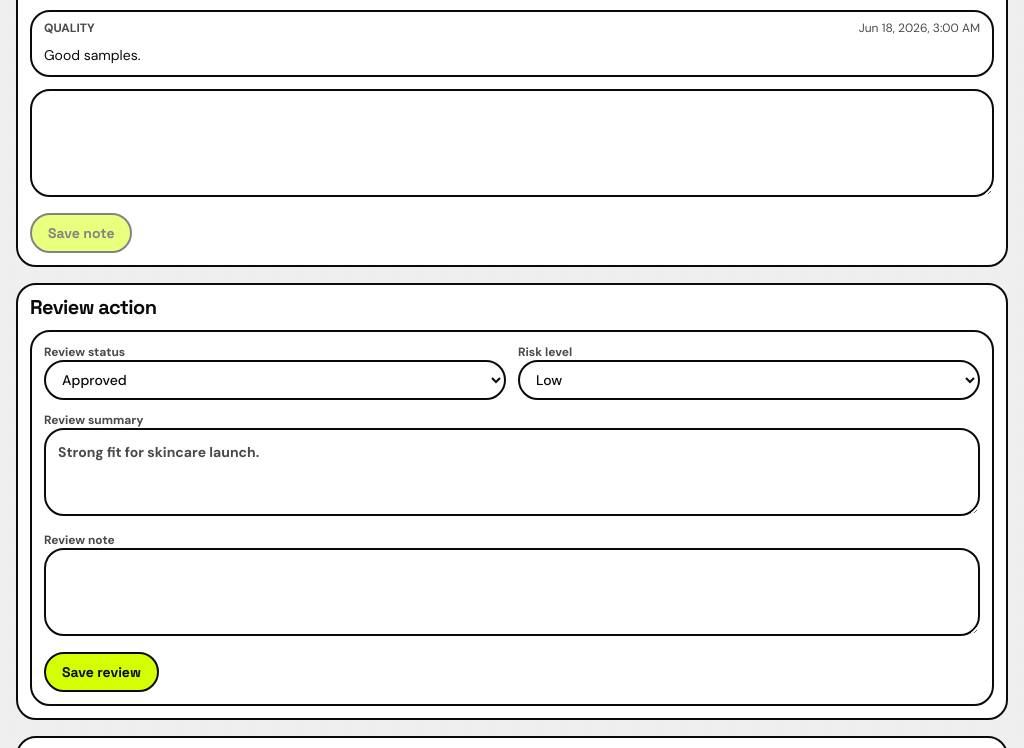
Test: operator creator detail › requires a note before saving a flagged review
(page scrolled)
Select "Flagged" in the dropdown labelled "Review status" at (275, 380), box top-left (44, 360), bottom-right (506, 400)
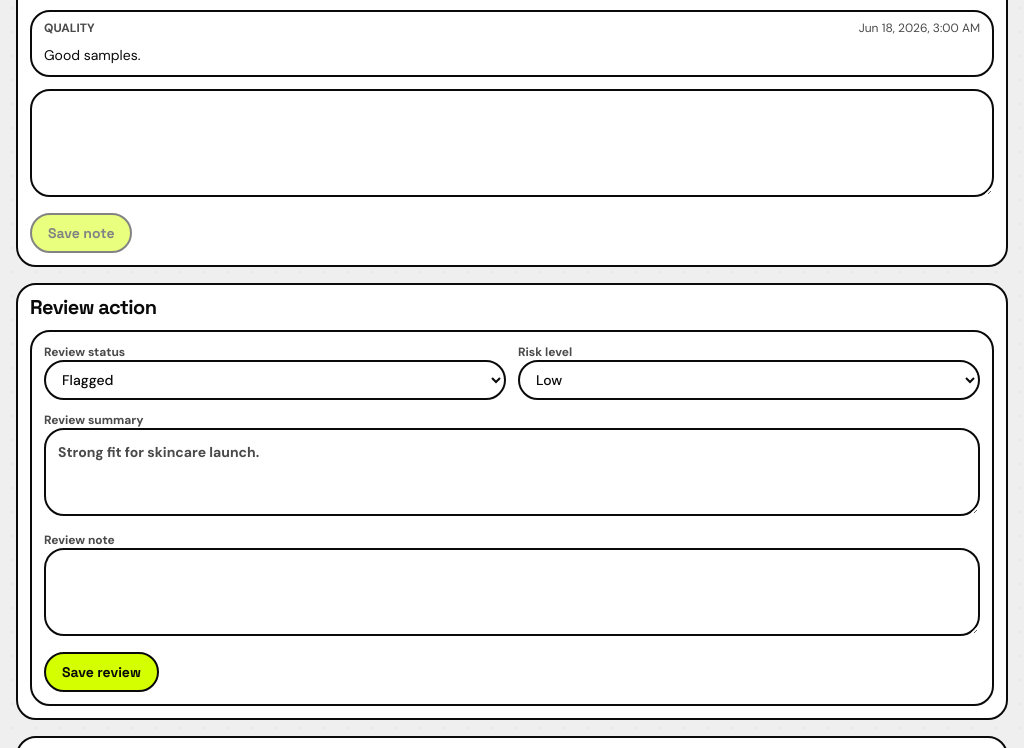
Click the button with aria-label "Save review action" at (101, 672), box top-left (44, 652), bottom-right (159, 692)
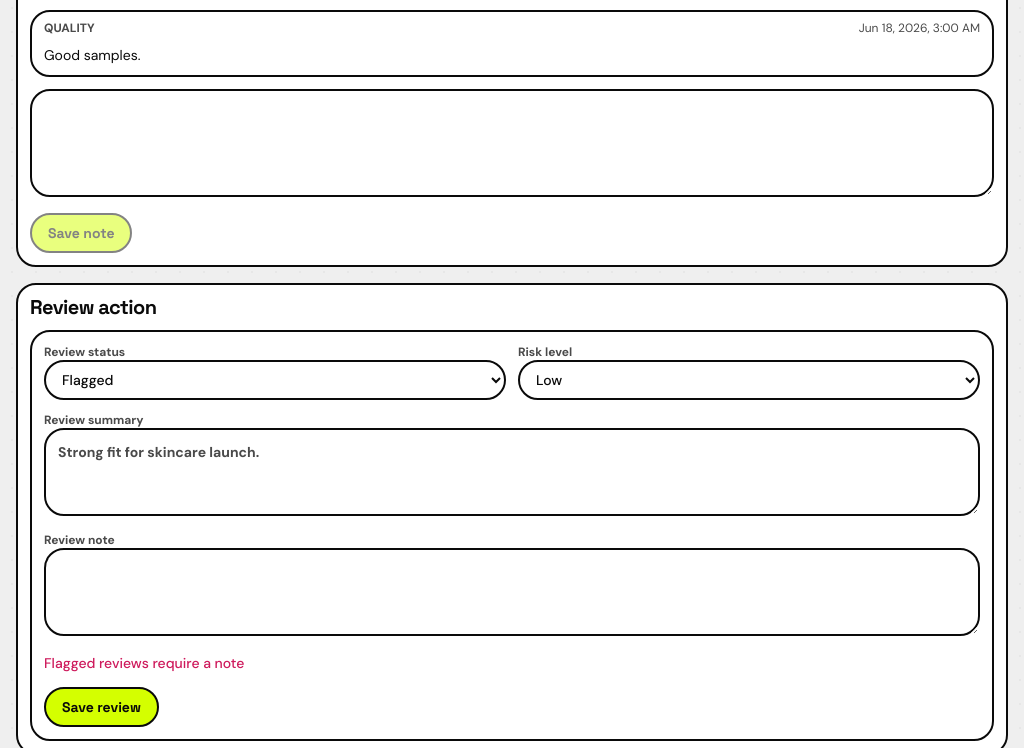
Expected: the text "Flagged reviews require a note" is shown, top-left (44, 654), bottom-right (244, 672)
